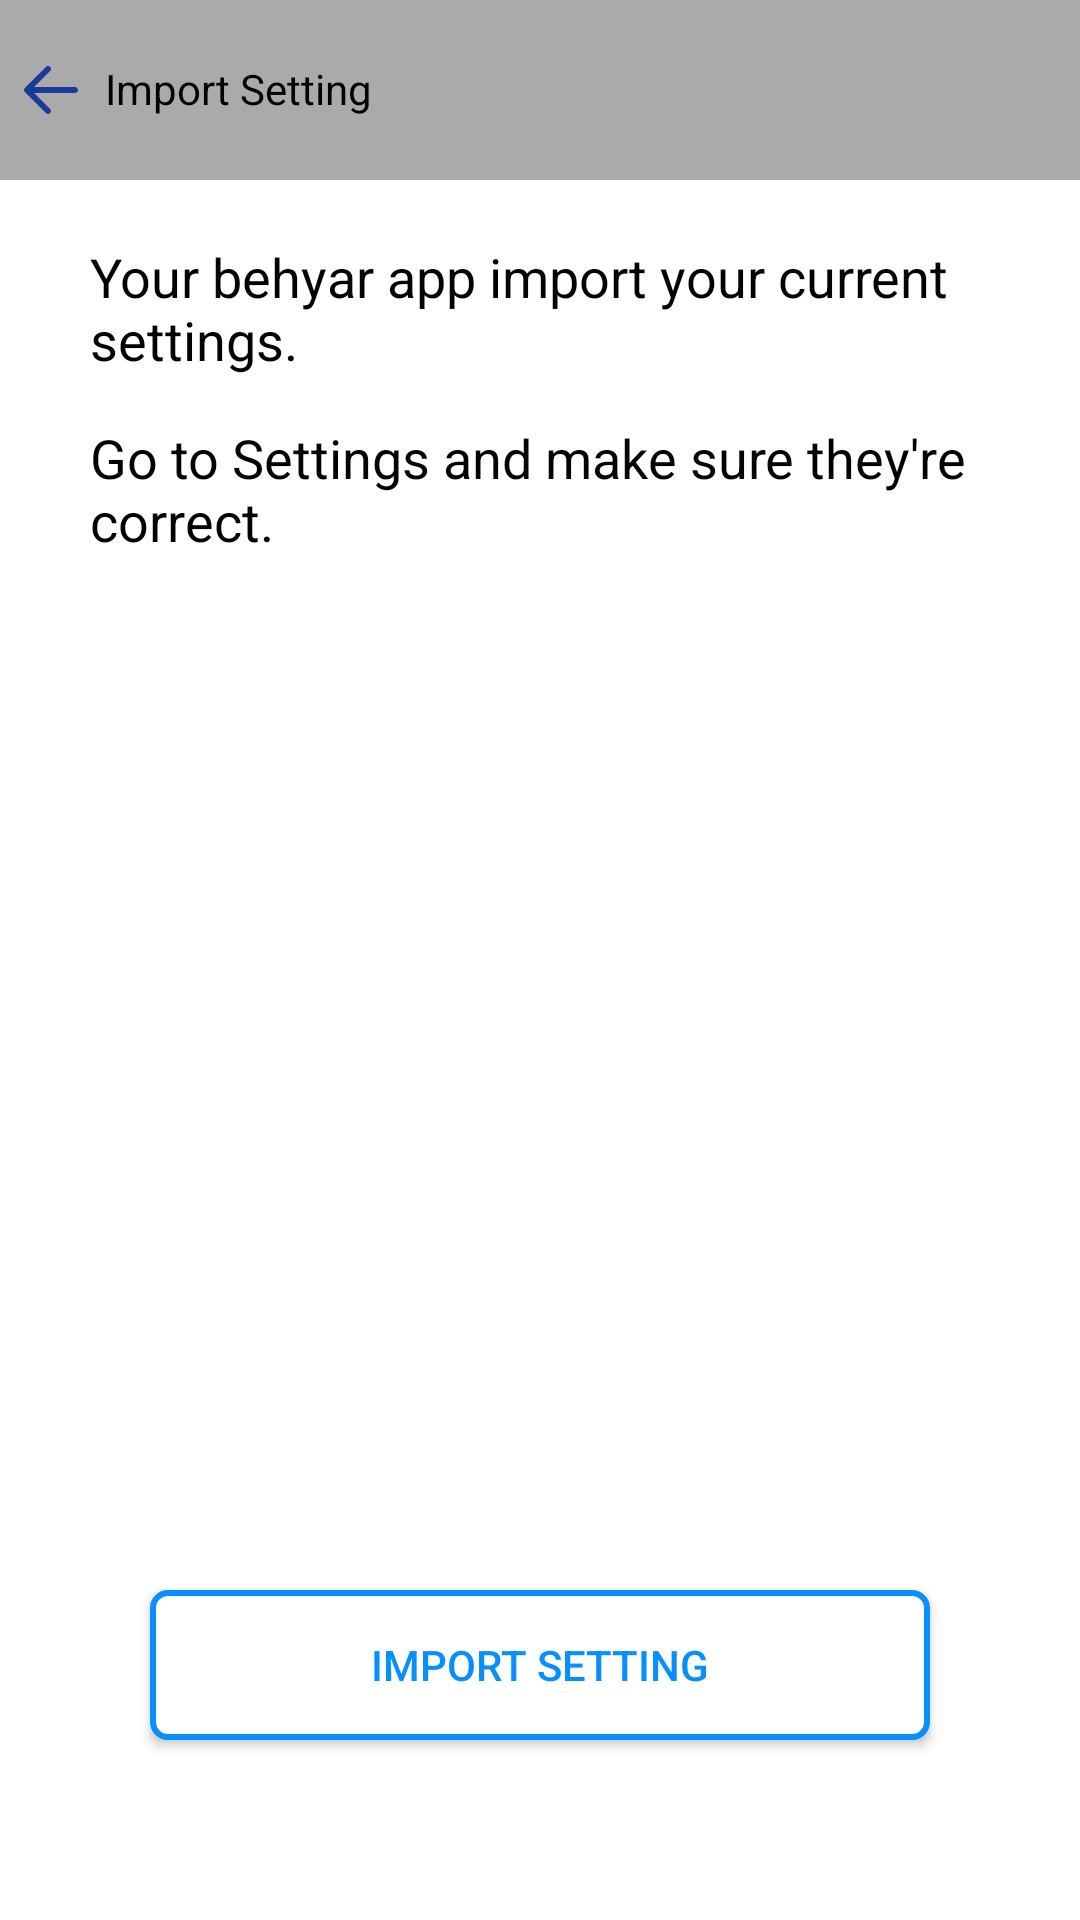

Icons on this 1080px x 1920px Android screen, each with the point to tap as (x=x, y=y):
left: (x=51, y=90)
